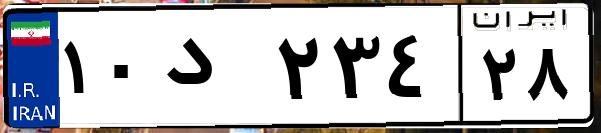0: (110, 28, 158, 98)
1: (57, 26, 110, 100)
2: (270, 28, 330, 110), (475, 38, 525, 113)
3: (330, 28, 385, 110)
4: (385, 28, 445, 110)
8: (525, 38, 570, 115)
د: (158, 20, 270, 120)
